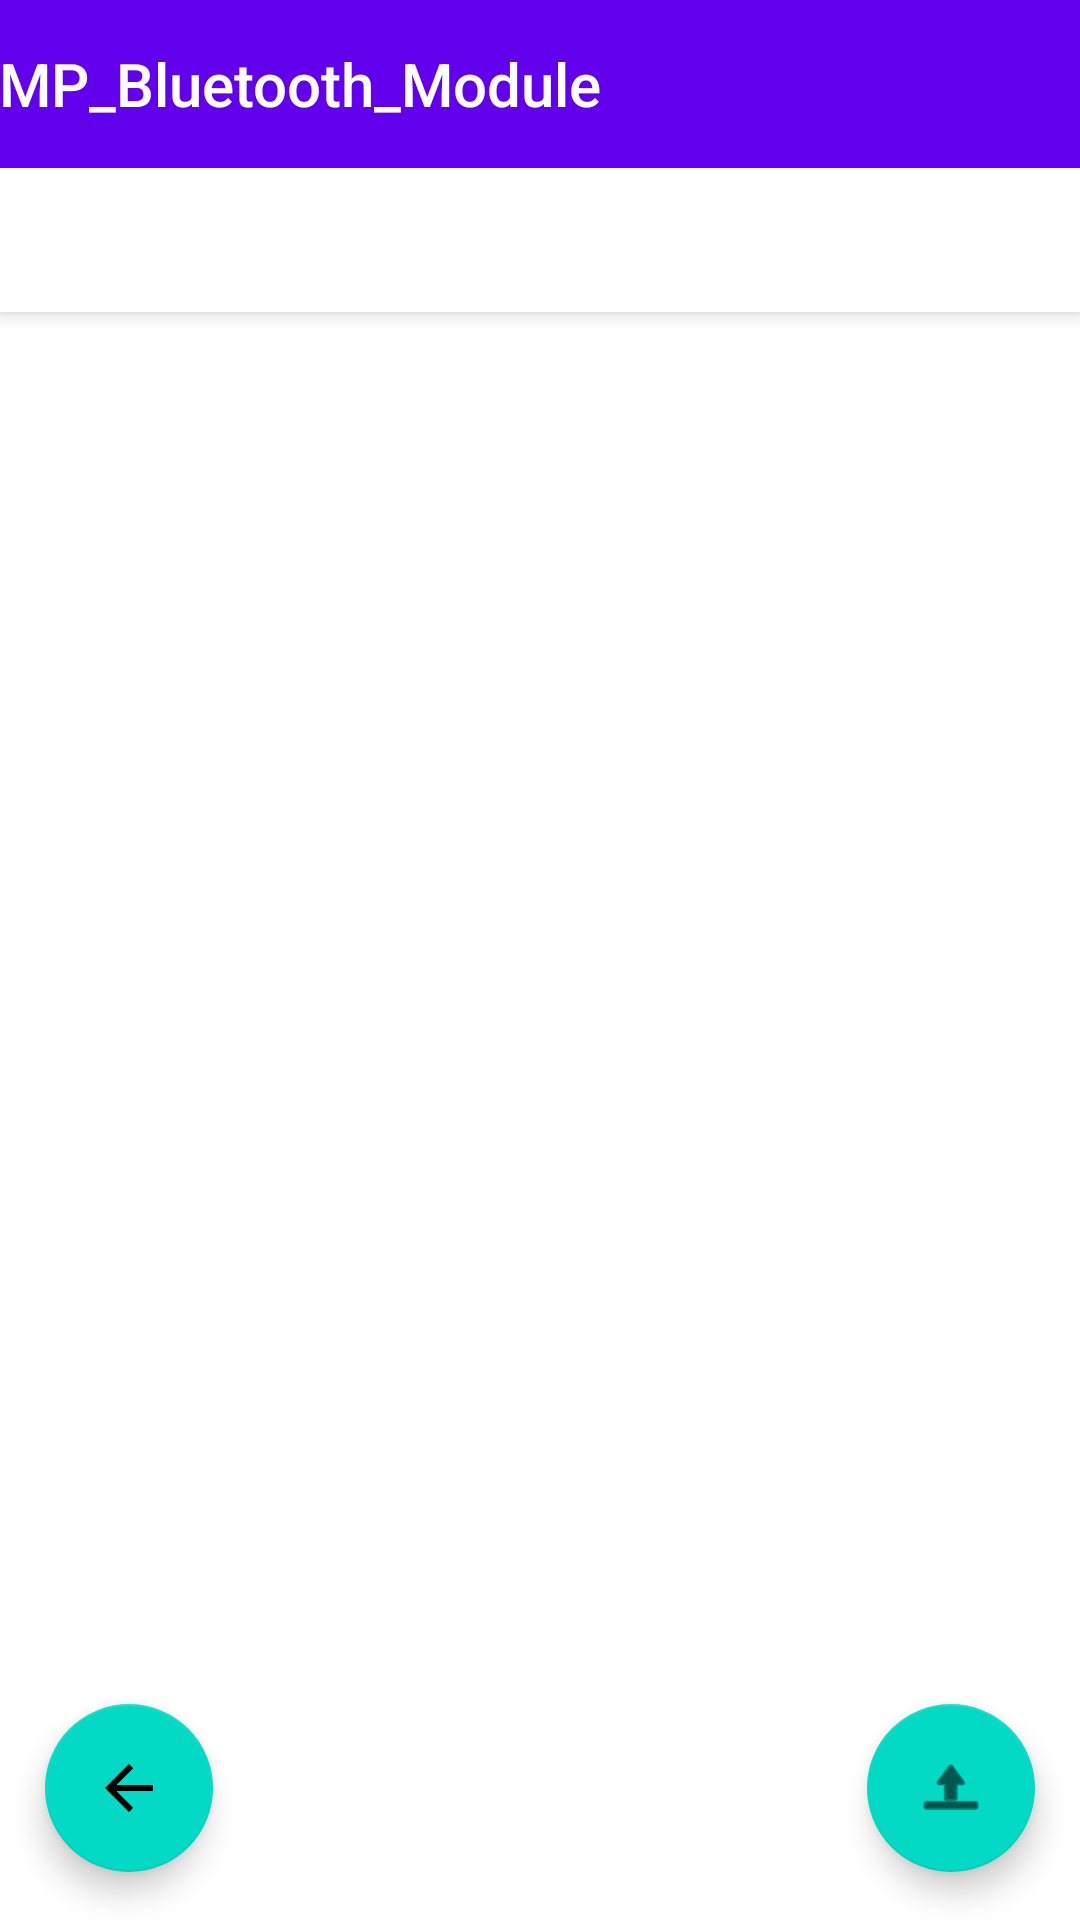

Icon click points for this 1080x1920 phone screenshot, format [x,y]:
upload: [951,1788]
